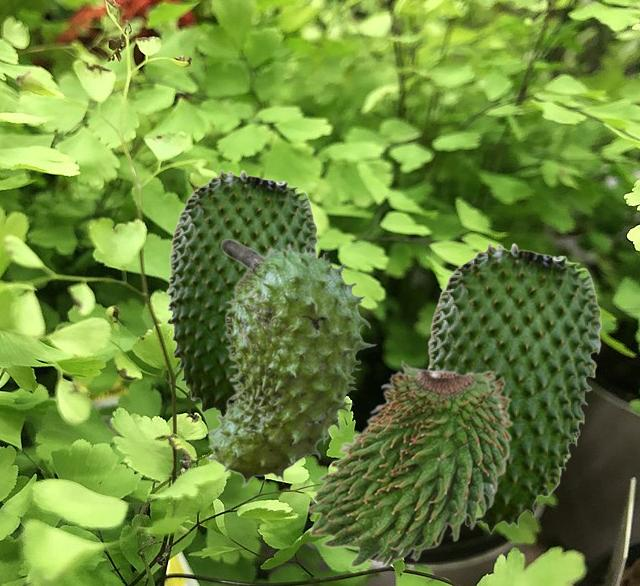guyabano: (427, 242, 601, 533), (305, 359, 513, 567), (204, 238, 376, 487), (166, 169, 317, 414)
